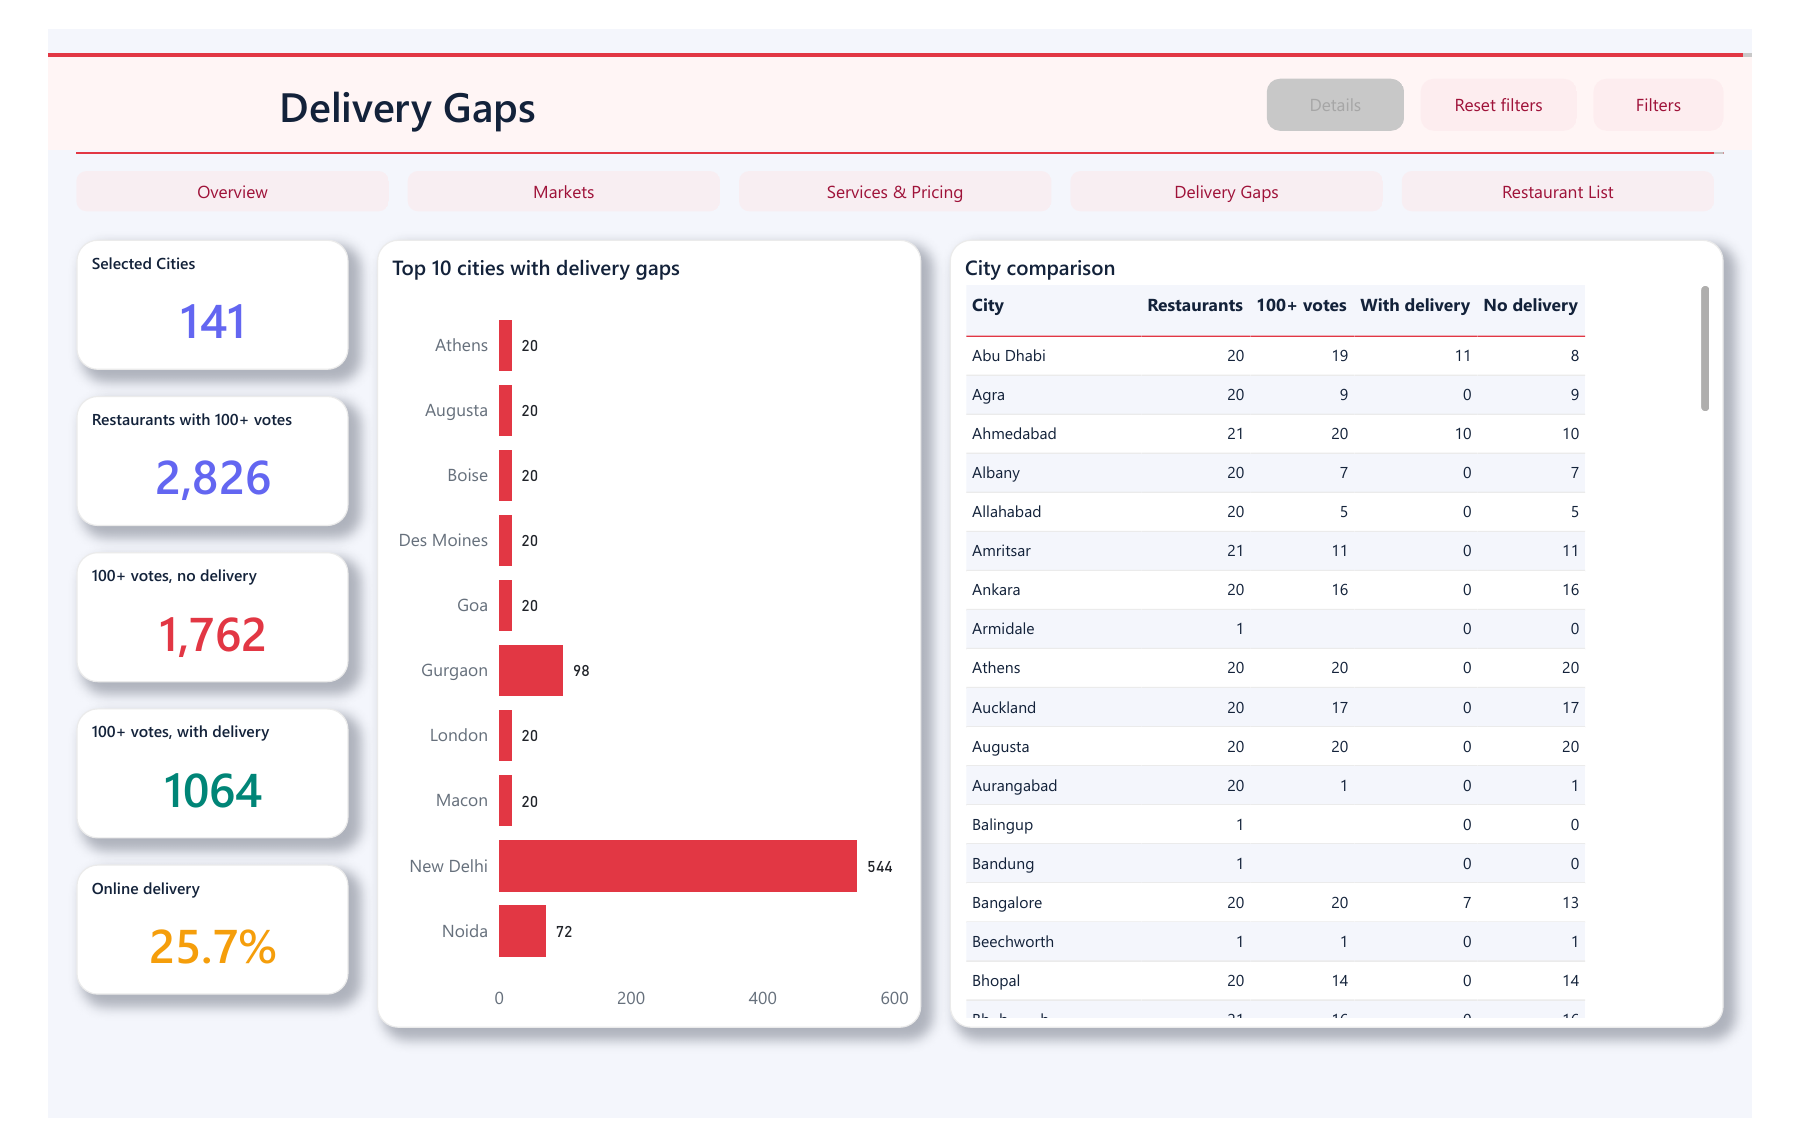

Layout of this report page (visuals, bound fields, positions):
{"tool":"powerbi","page":{"name":"Delivery Gaps","canvas":[1440,900],"ordinal":3},"visuals":[{"type":"textbox","box":[0,0,1440,4],"z":0},{"type":"textbox","box":[0,4,1440,78],"z":0},{"type":"textbox","box":[24,84,1392,2],"z":0},{"type":"textbox","box":[196,22,816,48],"z":100},{"type":"card","title":"Selected Cities","fields":{"Values":["Context.Count"]},"box":[24,158,230,110],"z":100},{"type":"clusteredBarChart","title":"Top 10 cities with delivery gaps","fields":{"Category":["zomato.City","zomato.RestaurantName"],"Y":["zomato.Gap Top 10"]},"box":[278,158,460,666],"z":105},{"type":"tableEx","title":"City comparison","fields":{"Values":["zomato.City","zomato.Listings","zomato.Engaged Listings","zomato.Engaged Delivery Listings","zomato.Delivery Gap"]},"box":[762,158,654,666],"z":106},{"type":"card","title":"Restaurants with 100+ votes","fields":{"Values":["zomato.Engaged Listings"]},"box":[24,290,230,110],"z":107},{"type":"card","title":"100+ votes, no delivery","fields":{"Values":["zomato.Delivery Gap"]},"box":[24,422,230,110],"z":108},{"type":"card","title":"100+ votes, with delivery","fields":{"Values":["zomato.Engaged Delivery Listings"]},"box":[24,554,230,110],"z":109},{"type":"card","title":"Online delivery","fields":{"Values":["zomato.Delivery Coverage"]},"box":[24,686,230,110],"z":110},{"type":"actionButton","box":[1030,22,116,44],"z":5000},{"type":"actionButton","box":[1160,22,132,44],"z":5000},{"type":"actionButton","box":[1306,22,110,44],"z":5000},{"type":"actionButton","box":[24,100,264,34],"z":5000},{"type":"actionButton","box":[304,100,264,34],"z":5000},{"type":"actionButton","box":[584,100,264,34],"z":5000},{"type":"actionButton","box":[864,100,264,34],"z":5000},{"type":"actionButton","box":[1144,100,264,34],"z":5000}]}

Visuals, with their boxes in screenshot pixels (x1, y1, x2, y2), scaled from the page's 1440x900 canvas onto the 1800x1147 screenshot:
textbox: 0 0 1799 5
textbox: 0 5 1799 105
textbox: 30 107 1770 110
textbox: 245 28 1265 89
"Selected Cities" card: 30 201 318 342
"Top 10 cities with delivery gaps" clusteredBarChart: 348 201 922 1050
"City comparison" tableEx: 952 201 1770 1050
"Restaurants with 100+ votes" card: 30 370 318 510
"100+ votes, no delivery" card: 30 538 318 678
"100+ votes, with delivery" card: 30 706 318 846
"Online delivery" card: 30 874 318 1014
actionButton: 1288 28 1432 84
actionButton: 1450 28 1615 84
actionButton: 1632 28 1770 84
actionButton: 30 127 360 171
actionButton: 380 127 710 171
actionButton: 730 127 1060 171
actionButton: 1080 127 1410 171
actionButton: 1430 127 1760 171
